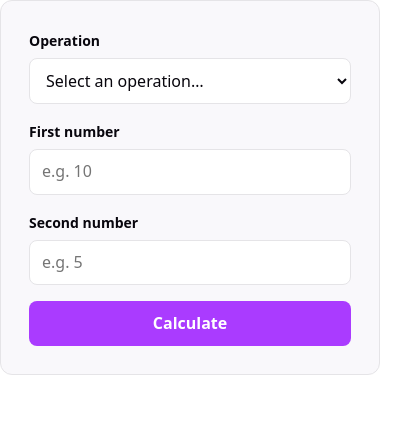
Calculator › shows a validation error when the first number is missing
Select "Add (a + b)" in the dropdown labelled "Operation" at (190, 81), box [29,58,351,104]
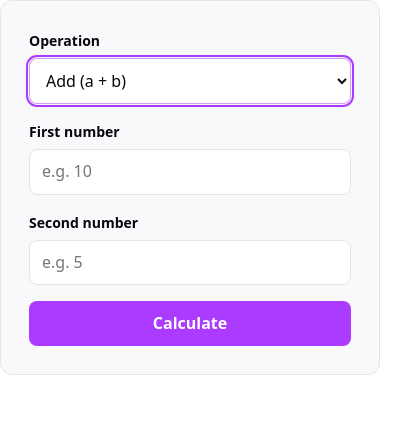
Type "5" into the field labelled "Second number" at (190, 262), box [29,240,351,285]
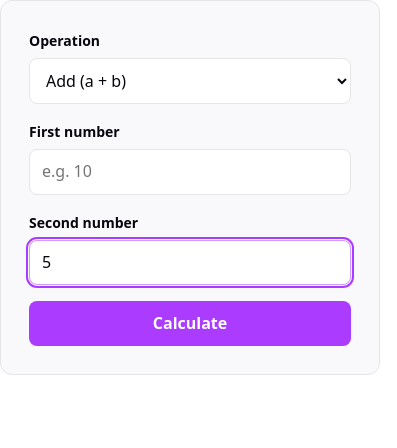
Click the button "Calculate" at (190, 324), box [29,301,351,346]
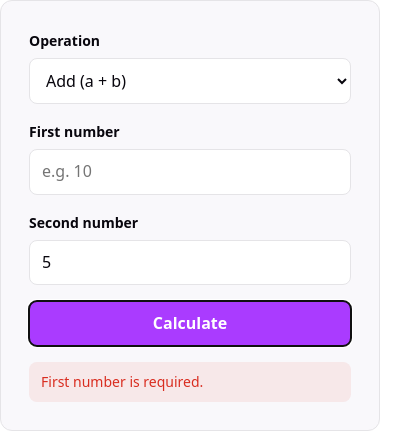
Now the message reads "First number is required.", box [41,372,203,391]
